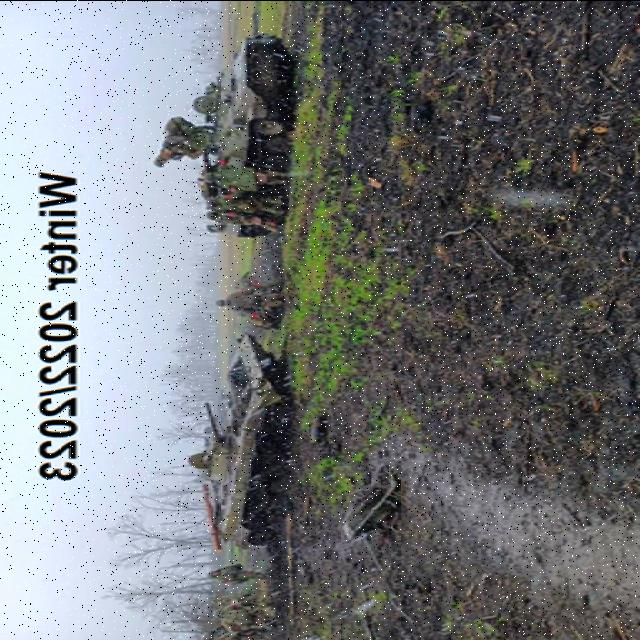APC-IFV: (164, 32, 296, 238), (188, 352, 302, 548)
